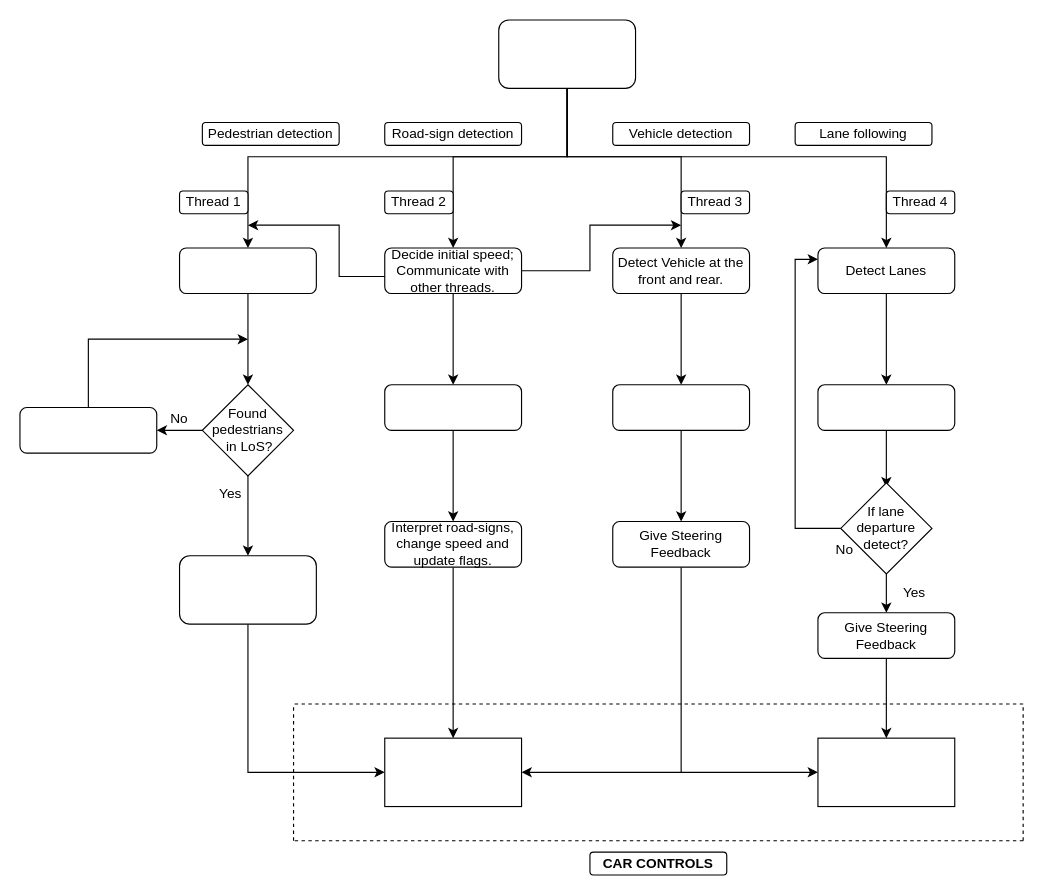
The diagram is 1044 pixels wide and 895 high, and some of its shapes have lost their labels. The centre of each missing label's shape, as x and y in pixels:
Accelerate/Decelerate/ Stop on the basis of the vehicle.: pixel 681 407
Braking and Acceleration: pixel 453 772
Continue at current speed.: pixel 88 429
Detect road-signs based on color and shape thresholding: pixel 453 407
Lane Departure Warning System: pixel 886 407
Slow down or stop according to distance. Update STOP flag.: pixel 247 589
START CAR: pixel 567 53
Steering: pixel 886 772
Train and extract HoG features: pixel 247 270
